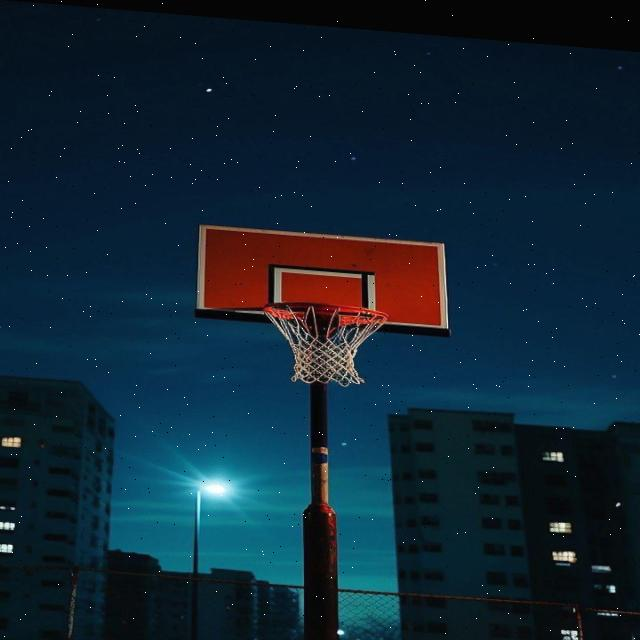hoop: (232, 290, 426, 403)
